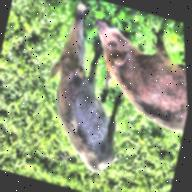boar: (4, 14, 157, 192), (73, 15, 189, 140)
